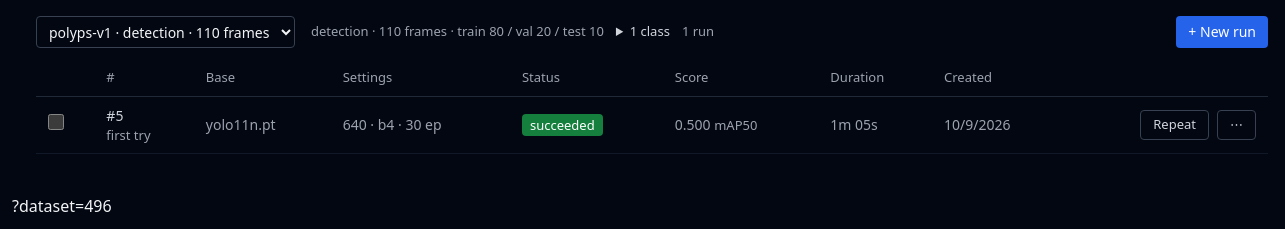
Test: TrainPage › switching dataset by hand updates the URL and does not re-request the datasets
Expected: the text "first try" is shown, [106,126,151,144]
Select "polyps-v2 · detection · 110 frames" in the dropdown named "Dataset" at (166, 32), box [36,16,295,48]
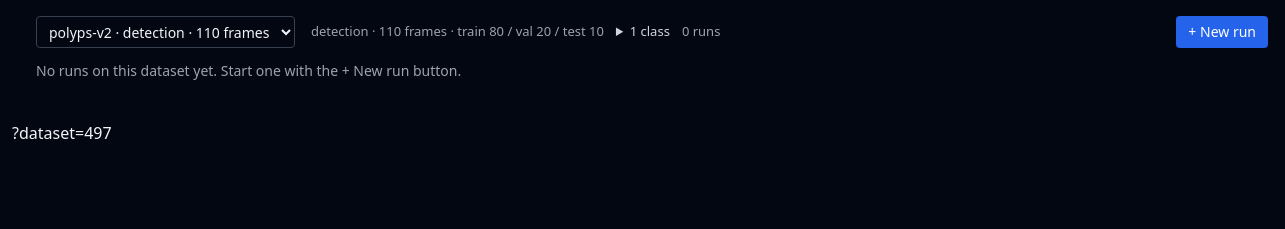
Result: the text with test id "where" reads "?dataset=497" at [12,122,112,144]
